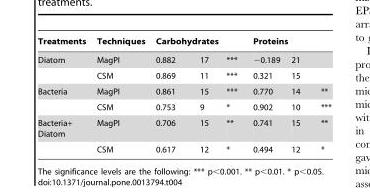table: (37, 36, 330, 153)
table column: (90, 36, 149, 153), (37, 36, 90, 153), (244, 36, 284, 153), (149, 36, 186, 153), (186, 36, 216, 153), (216, 36, 244, 153), (284, 36, 309, 153), (309, 36, 330, 153)
table column header: (37, 36, 330, 67)
table row: (37, 113, 330, 141), (37, 50, 330, 67), (37, 67, 330, 83), (37, 83, 330, 99), (37, 36, 330, 50), (37, 99, 330, 113), (37, 141, 330, 153)
table spanning cell: (37, 113, 90, 153), (90, 36, 149, 67), (37, 36, 90, 67), (37, 83, 90, 113), (149, 36, 244, 50), (244, 36, 330, 50)
